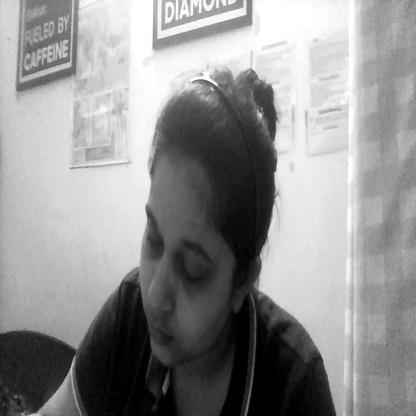Distracted: (142, 76, 274, 358)
